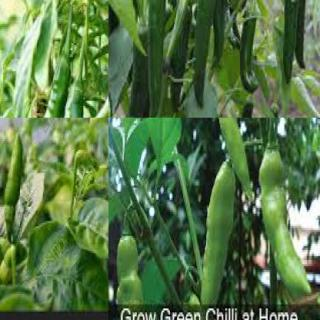green_chilli: (257, 147, 315, 303), (200, 157, 238, 319), (204, 118, 253, 198), (18, 51, 72, 117), (83, 0, 108, 117), (193, 0, 219, 111), (115, 233, 148, 319), (168, 5, 189, 114), (148, 0, 167, 117), (2, 130, 26, 218), (128, 25, 150, 117), (241, 14, 259, 97), (282, 0, 298, 85), (211, 0, 230, 65), (294, 0, 307, 68), (62, 85, 86, 117)
